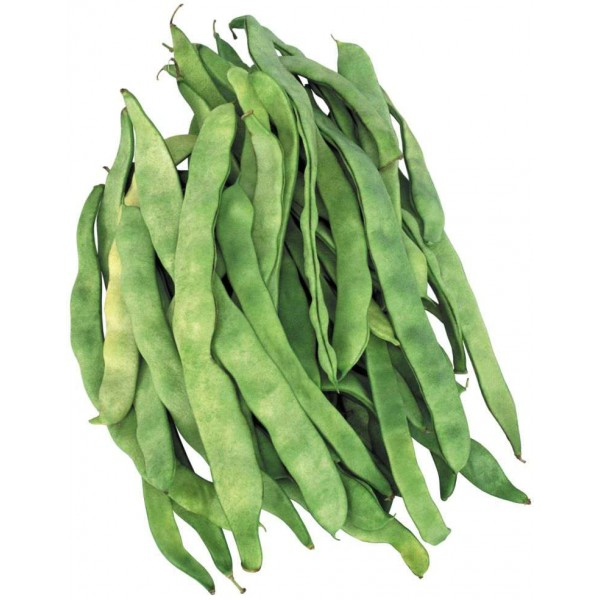Beans: (300, 90, 482, 474), (162, 104, 262, 577)
